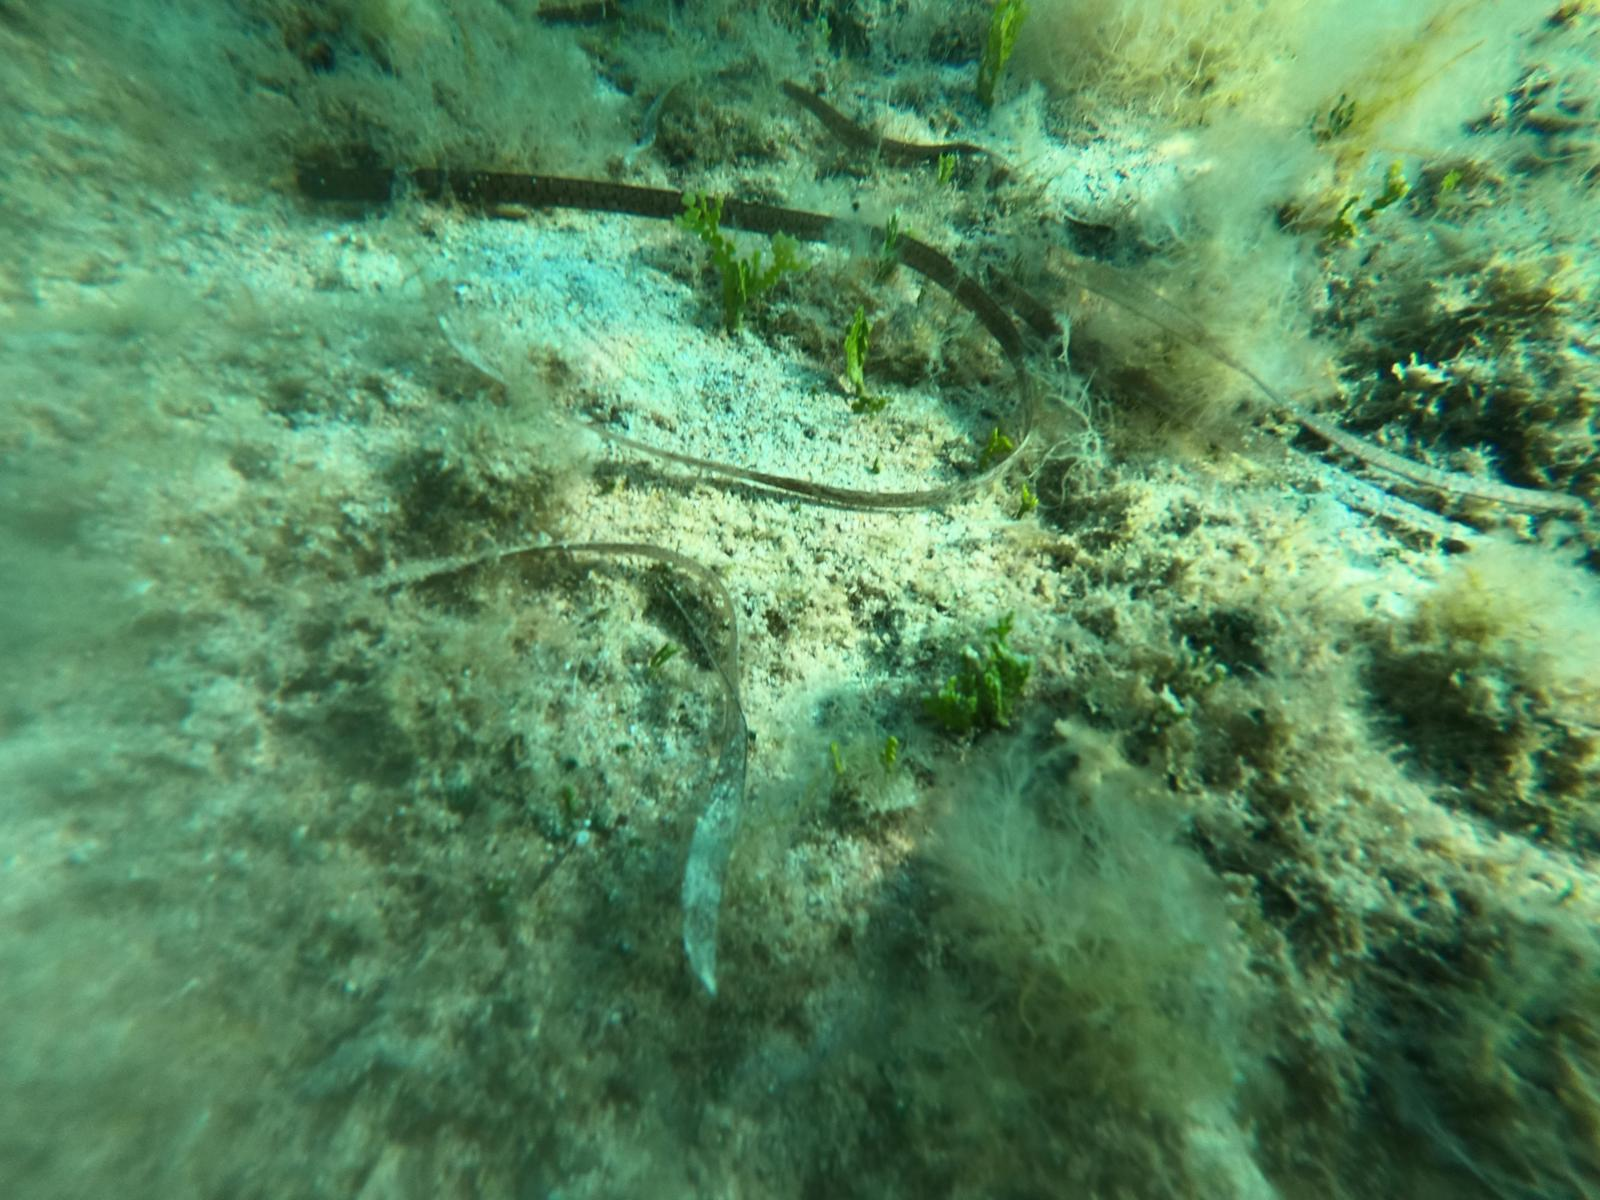halimeda: (682, 182, 795, 339), (941, 619, 1033, 732), (974, 6, 1029, 110), (834, 306, 879, 406), (1364, 161, 1409, 224), (1317, 199, 1358, 255), (932, 149, 957, 192), (1015, 483, 1039, 526), (983, 429, 1003, 471), (882, 734, 897, 779)
